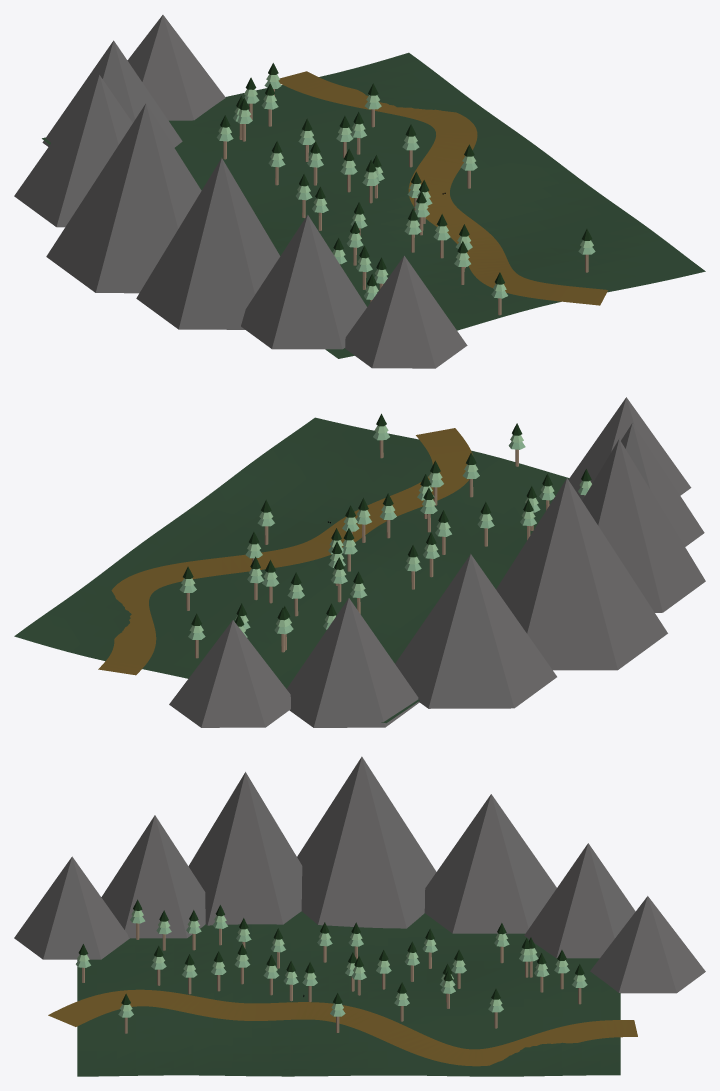
File: paramo.glb
3 renders of one model, top to bottom at view 1: azimuth 30°, elevation 25°; view 2: azimuth 150°, elevation 25°; view 3: azimuth 270°, elevation 25°, orthographic. The views are drawn at different scales.
Parts seen in each view (by area): view 1: Terreno_principal, Montana_3, Montana_2, Sendero_de_tierra, Montana_1, Montana_4, Montana_6, Montana_7, Copa_1_3, Copa_1_3.001, Montana_5; view 2: Terreno_principal, Montana_3, Montana_4, Sendero_de_tierra, Montana_5, Montana_2, Montana_7, Copa_1_3, Copa_1_3.001, Montana_6, Montana_1; view 3: Terreno_principal, Montana_3, Montana_4, Montana_2, Sendero_de_tierra, Montana_1, Montana_5, Montana_6, Montana_7, Copa_1_3.001, Copa_1_3.
Part boxes in pixels (<box>): Terreno_principal: <box>42,52,705,358</box>; Montana_3: <box>46,103,201,293</box>; Montana_2: <box>136,158,280,329</box>; Sendero_de_tierra: <box>278,71,607,305</box>; Montana_1: <box>241,215,366,349</box>; Montana_4: <box>14,75,132,227</box>; Montana_6: <box>345,255,467,368</box>; Montana_7: <box>127,15,225,120</box>; Copa_1_3: <box>237,63,595,284</box>; Copa_1_3.001: <box>216,83,507,315</box>; Montana_5: <box>42,40,182,147</box>; Terreno_principal: <box>14,417,569,723</box>; Montana_3: <box>496,478,667,670</box>; Montana_4: <box>395,554,556,708</box>; Sendero_de_tierra: <box>98,428,472,675</box>; Montana_5: <box>286,598,419,727</box>; Montana_2: <box>582,439,705,612</box>; Montana_7: <box>169,620,290,727</box>; Copa_1_3: <box>179,413,479,658</box>; Copa_1_3.001: <box>235,423,591,652</box>; Montana_6: <box>568,397,691,500</box>; Montana_1: <box>621,423,704,546</box>; Terreno_principal: <box>77,911,620,1076</box>; Montana_3: <box>297,756,436,928</box>; Montana_4: <box>424,794,556,933</box>; Montana_2: <box>188,772,302,925</box>; Sendero_de_tierra: <box>48,989,637,1066</box>; Montana_1: <box>101,815,205,938</box>; Montana_5: <box>524,843,635,958</box>; Montana_6: <box>14,856,129,959</box>; Montana_7: <box>590,896,705,993</box>; Copa_1_3.001: <box>76,899,549,1008</box>; Copa_1_3: <box>118,938,587,1033</box>.
Bounding box in the file's own units: 78.27 × 24.22 × 107.
